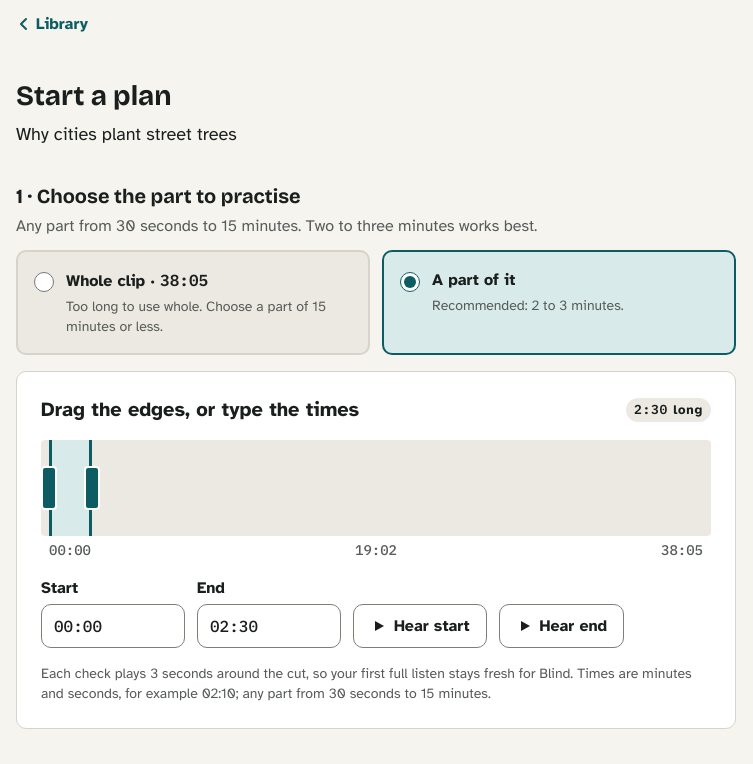
it: a clip over 15 minutes cannot be used whole; 2:30 from the first speech is suggested
Click the radio button labelled "Whole clip · 38:05" at (44, 282), box [34,272,54,292]
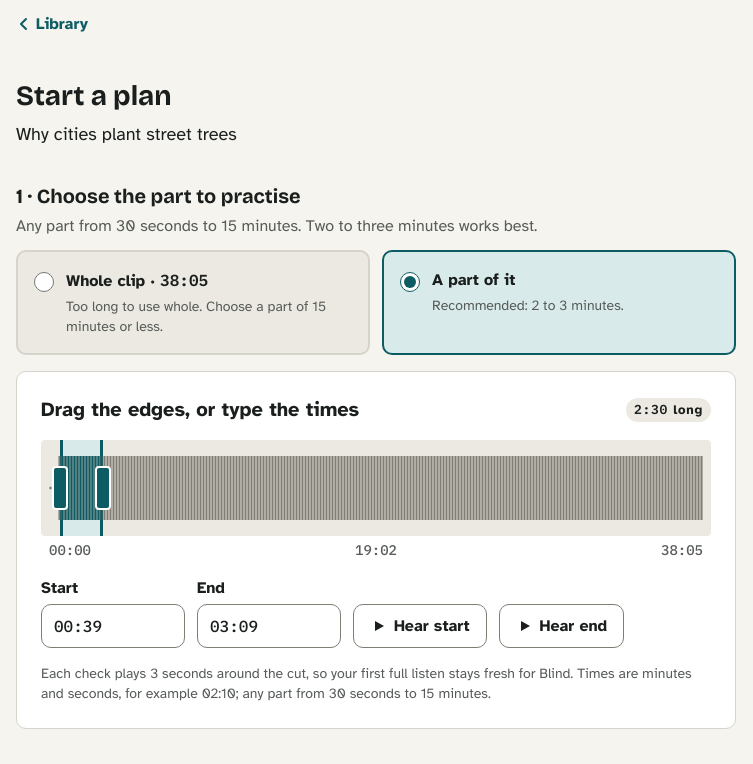
Expected: the radio button labelled "A part of it Recommended: 2 to 3 minutes." is checked, [400,272,420,292]
Expected: the field labelled "Start" holds "00:39"
Expected: the field labelled "End" holds "03:09", [197,604,341,648]
Replace the text in the field labelled "Start" with "05:00" at (113, 626), box [41,604,185,648]
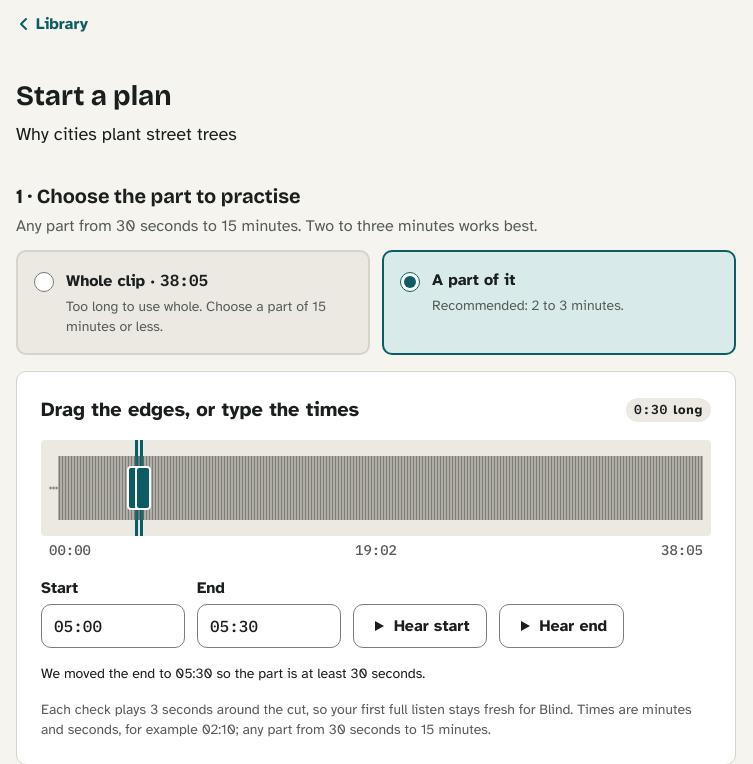
Replace the text in the field labelled "End" with "23:20" at (269, 626), box [197,604,341,648]
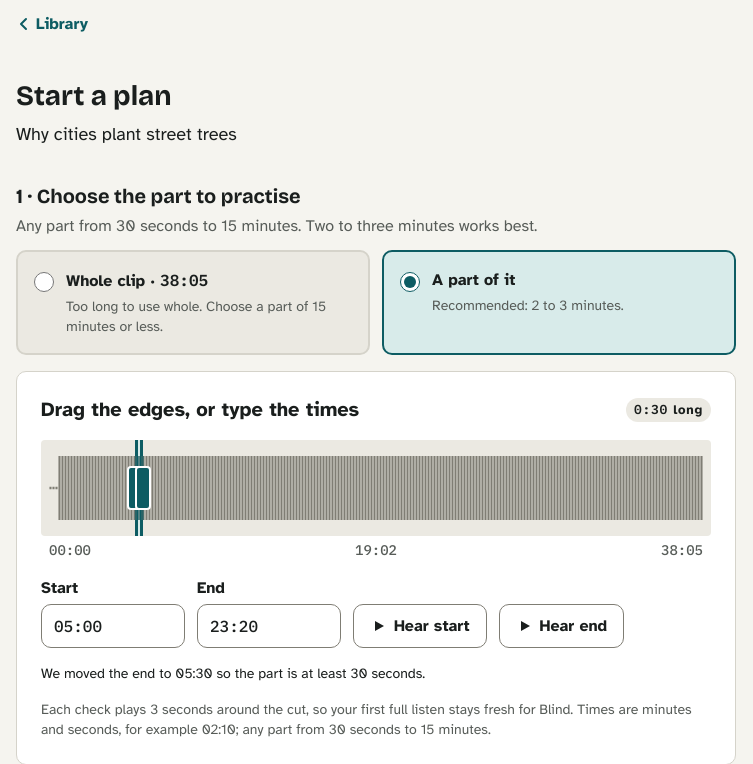
Leave the field labelled "End", box [197,604,341,648]
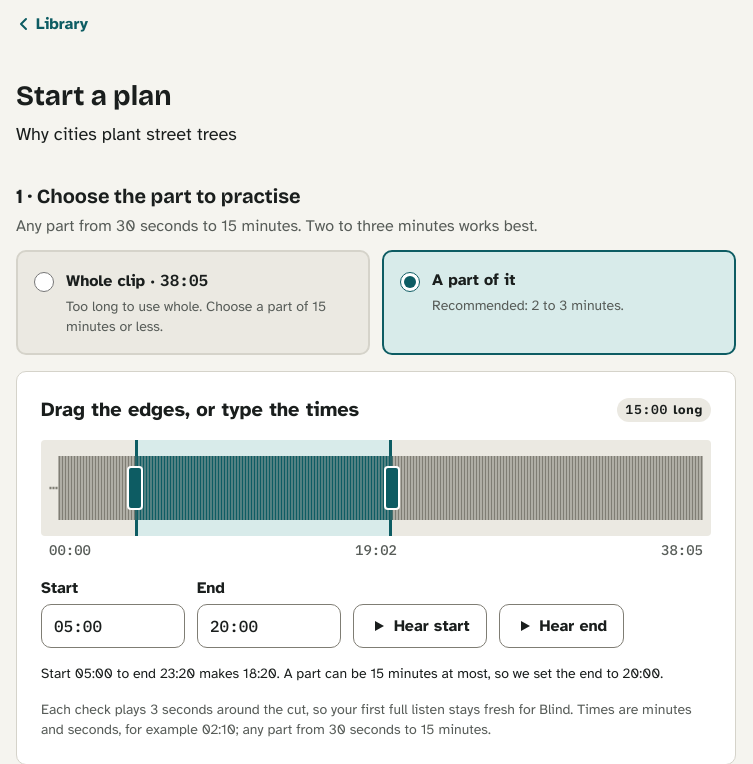
Expected: the field labelled "End" holds "20:00", [197,604,341,648]
